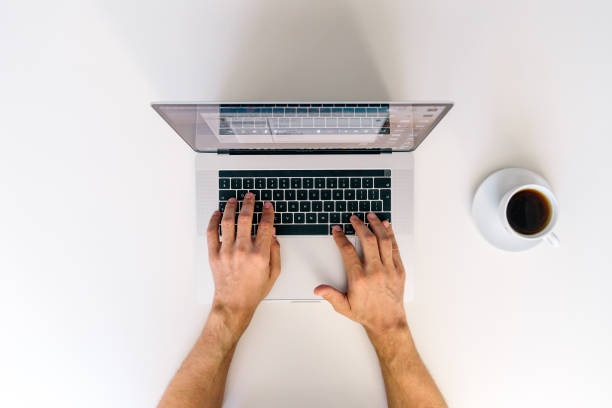keyboard: (215, 167, 394, 237)
laptop: (150, 101, 457, 310)
